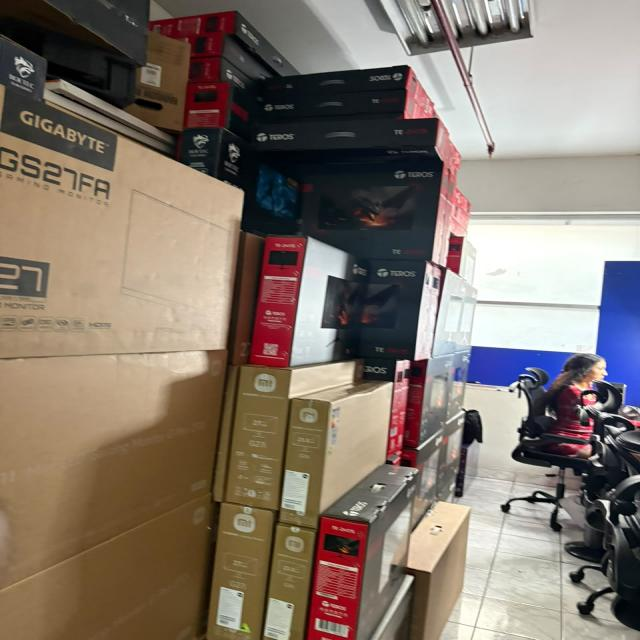caja-monitor: (0, 89, 244, 358), (1, 351, 227, 589), (0, 494, 211, 640), (224, 358, 365, 510), (307, 463, 420, 640), (280, 380, 394, 529), (295, 163, 451, 266), (249, 236, 370, 368), (179, 128, 303, 237), (150, 10, 300, 76), (207, 502, 276, 640), (264, 66, 433, 118), (407, 501, 469, 640), (251, 119, 450, 162), (358, 260, 435, 361), (264, 522, 319, 640), (176, 33, 280, 86), (263, 89, 428, 119), (184, 82, 264, 143), (402, 354, 453, 448), (403, 354, 454, 448), (402, 429, 444, 532), (362, 357, 404, 457), (187, 57, 265, 105), (432, 268, 468, 357), (438, 411, 466, 496), (446, 350, 471, 423), (447, 237, 477, 286), (456, 284, 477, 352), (452, 188, 472, 216), (437, 477, 457, 504)
